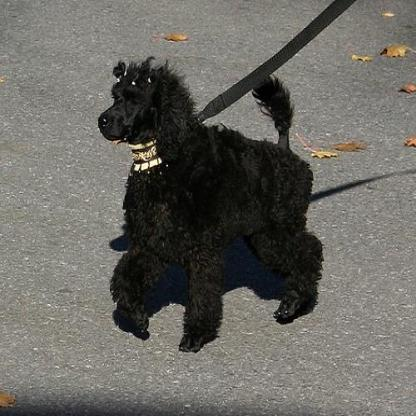miniature_poodle: (96, 52, 322, 352)
